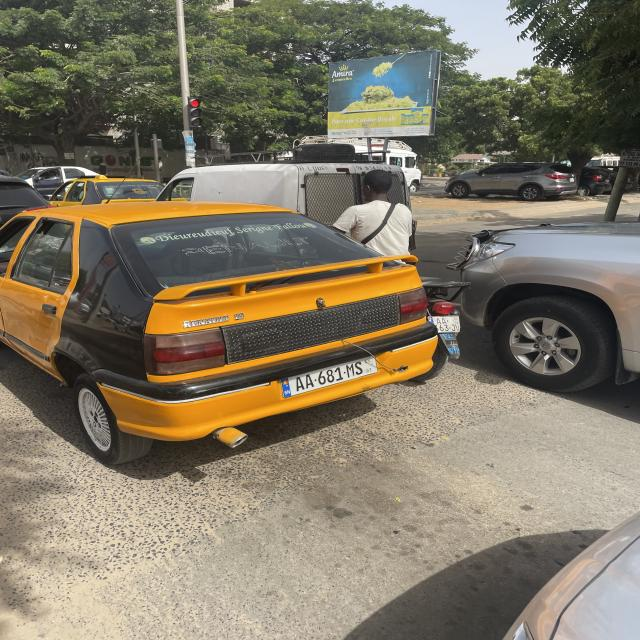feu: (184, 95, 211, 134)
ndiaga ndiaye: (296, 135, 426, 195)
particulier: (445, 216, 640, 395), (162, 162, 421, 254), (2, 169, 71, 296), (443, 160, 582, 204), (11, 164, 109, 196), (559, 162, 619, 198)
taxi: (1, 200, 442, 465), (48, 175, 190, 208)
